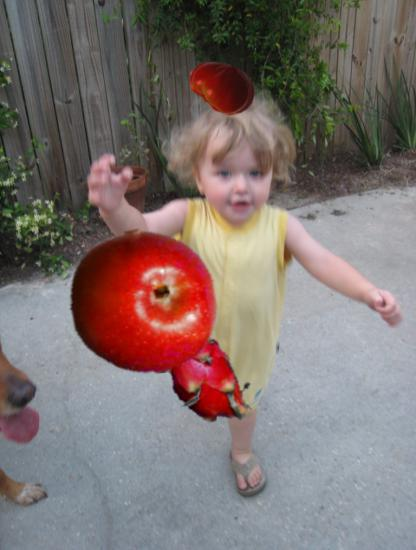Apple: (69, 226, 219, 376)
Pitahaya: (150, 320, 263, 433)
Tomato: (188, 53, 257, 122)
